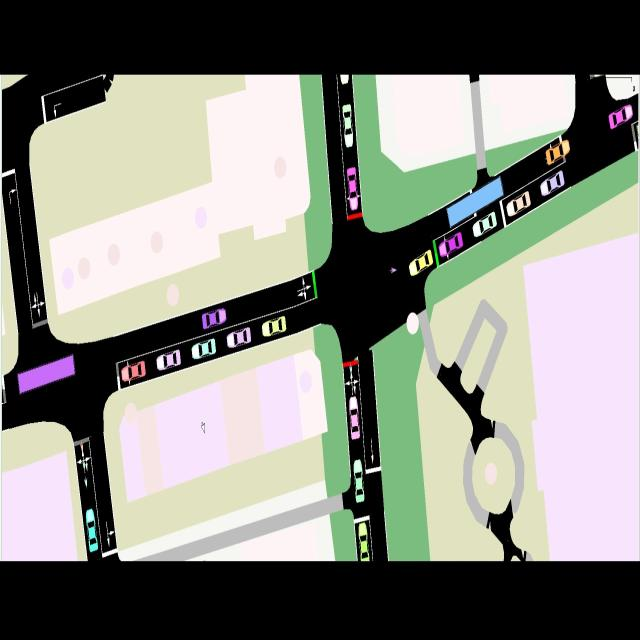vehicle: (17, 353, 76, 395), (545, 139, 571, 167), (438, 231, 464, 258), (472, 210, 497, 238), (540, 169, 565, 197), (608, 102, 632, 131), (226, 325, 252, 351), (408, 251, 433, 277), (346, 163, 359, 212), (506, 191, 531, 216), (85, 507, 98, 555), (348, 395, 361, 441), (190, 337, 217, 359), (121, 359, 145, 383), (353, 457, 365, 505), (156, 348, 181, 371), (261, 317, 286, 338), (342, 103, 353, 148), (203, 307, 226, 328)
